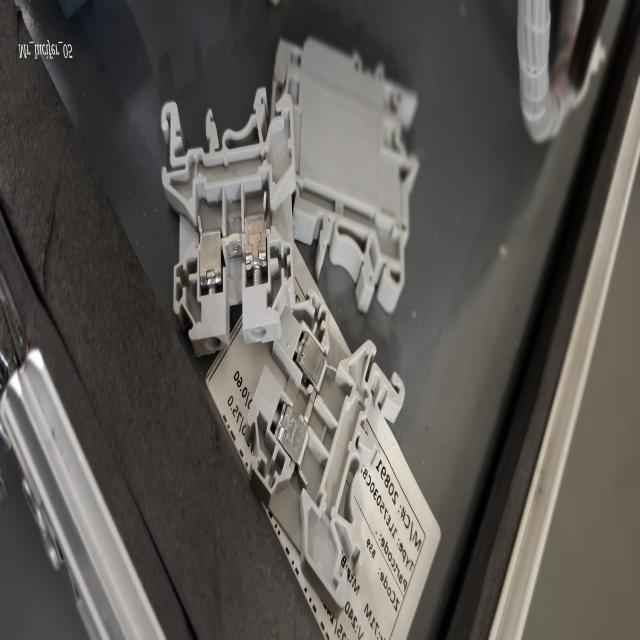Pass: (250, 286, 410, 604), (158, 68, 296, 354)
